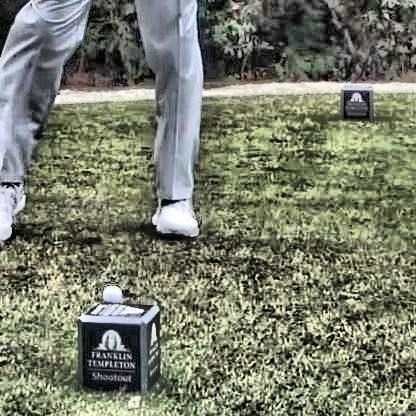golfball: (99, 280, 121, 301)
